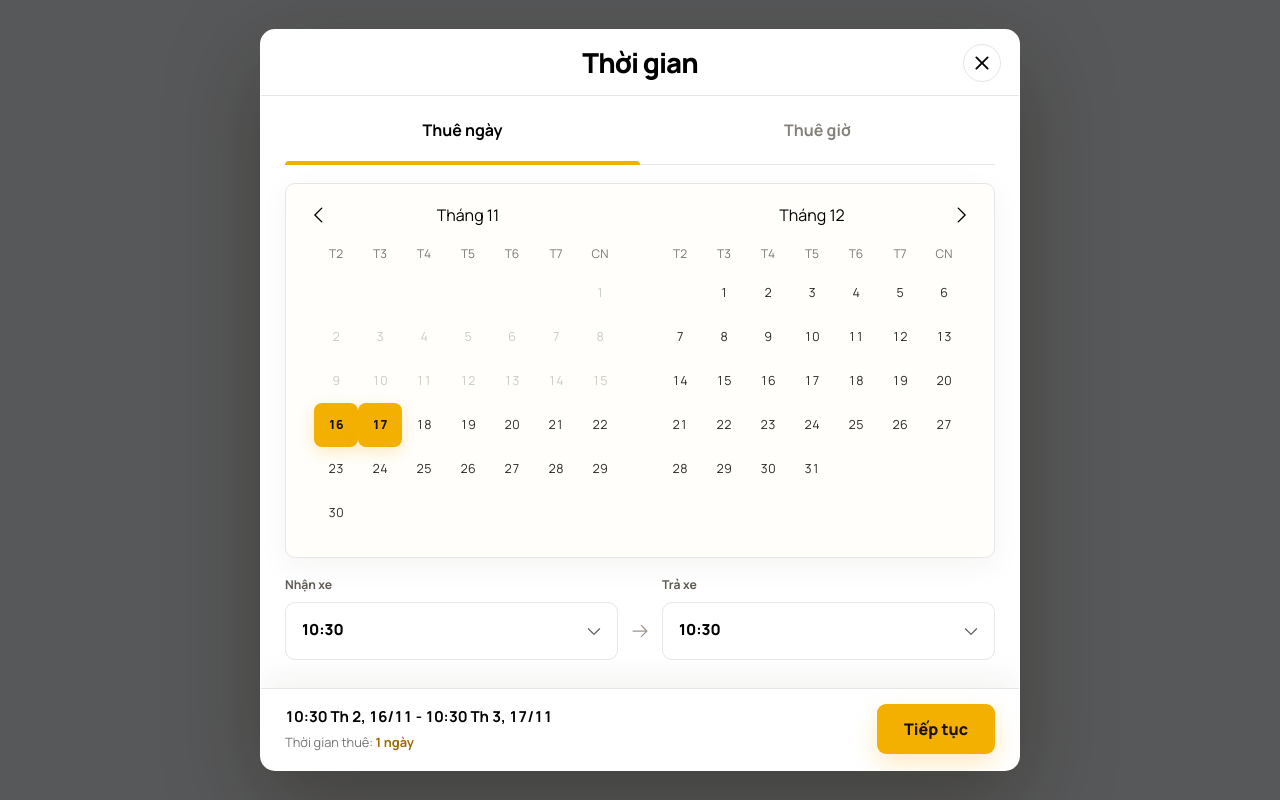
Test: does not restore an expired daily pickup when switching rental modes
The image size is (1280, 800).
Step 1. Click the tab "Thuê giờ" → [818, 130], box [640,96,995,164]
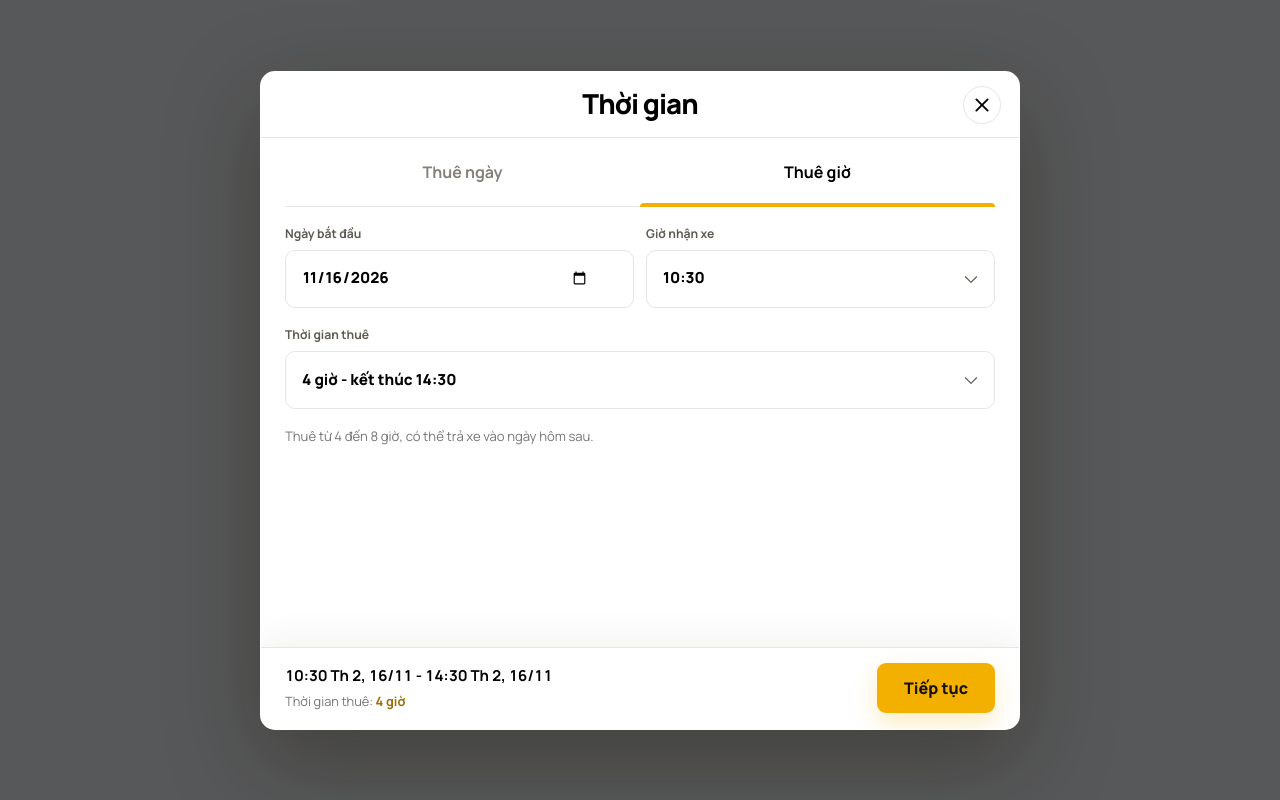
Step 2. Click the tab "Thuê ngày" → [462, 172], box [285,138,640,206]
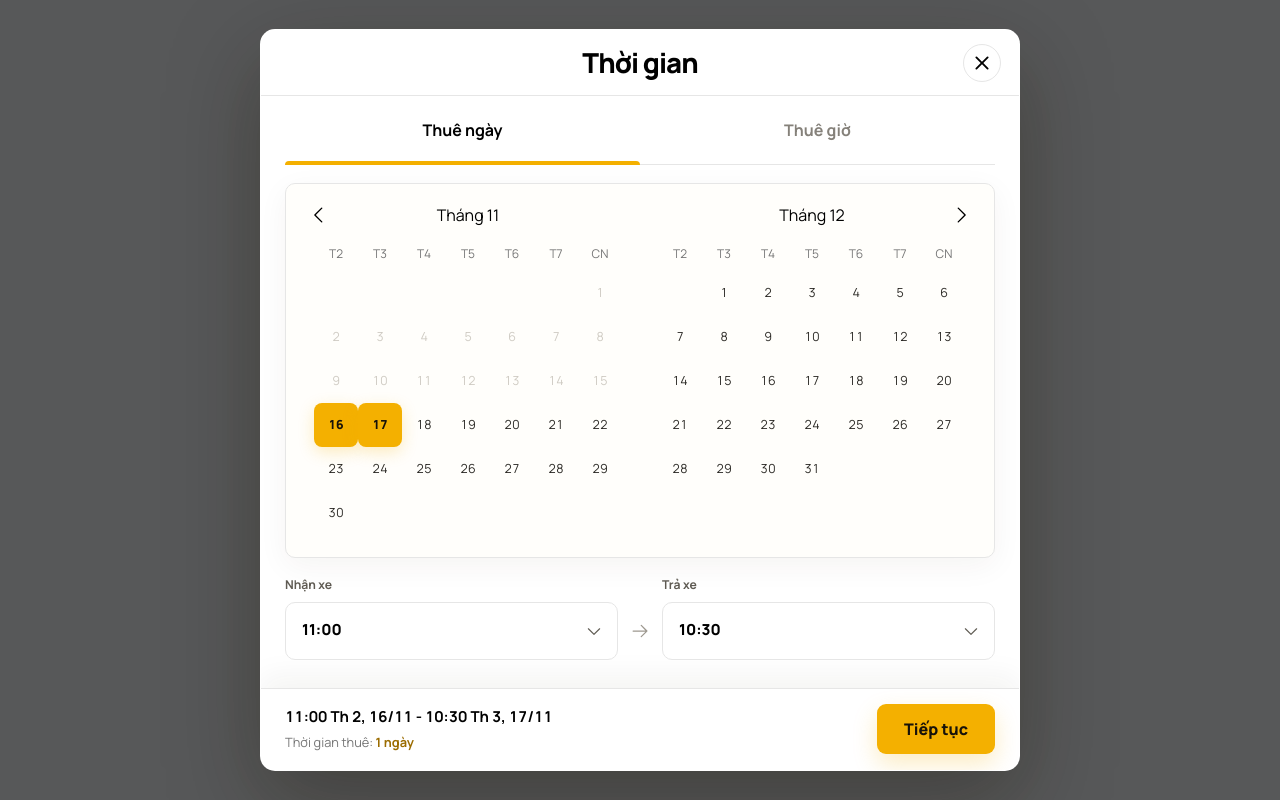
Expected: the dropdown labelled "Nhận xe" shows "11:00", [285,602,618,660]
